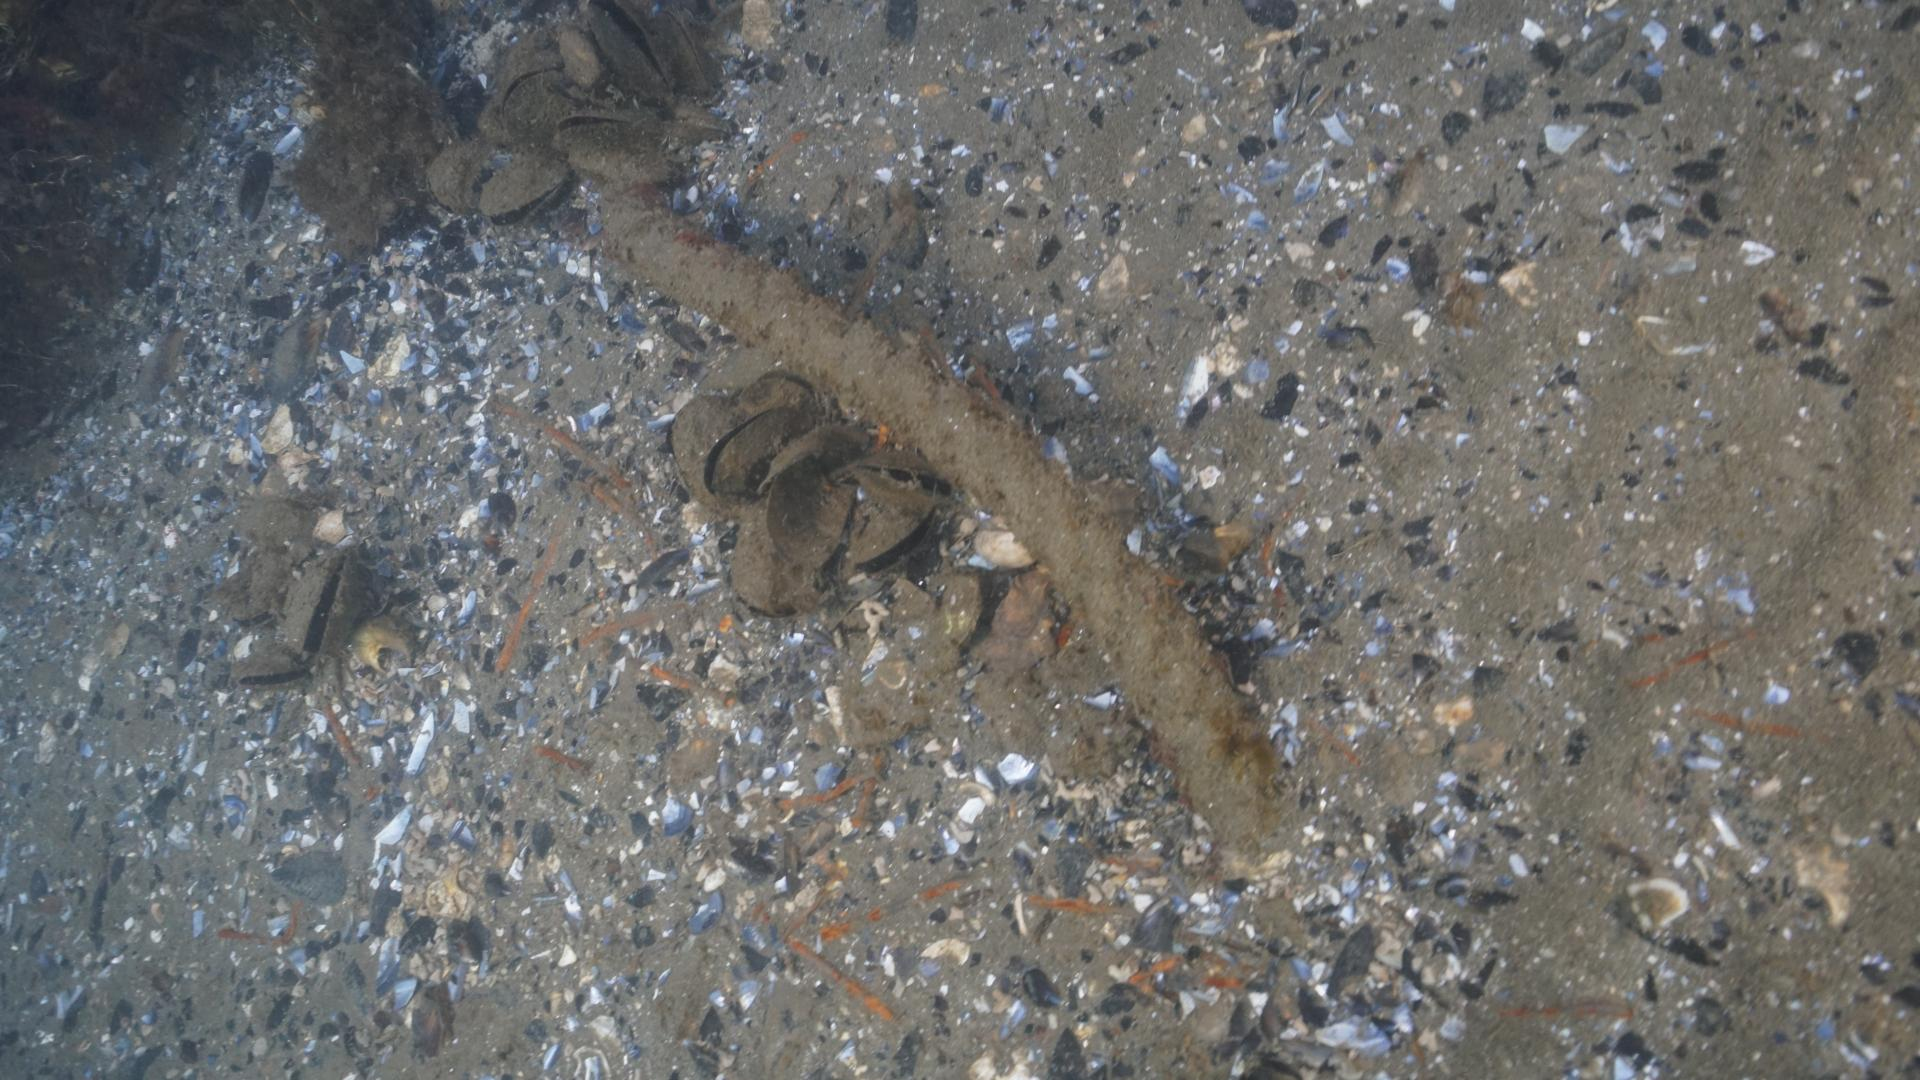rope: (578, 189, 1283, 835)
